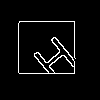H: (25, 27, 81, 85)
